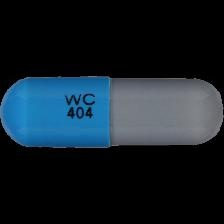66267-025: (0, 0, 224, 224)
